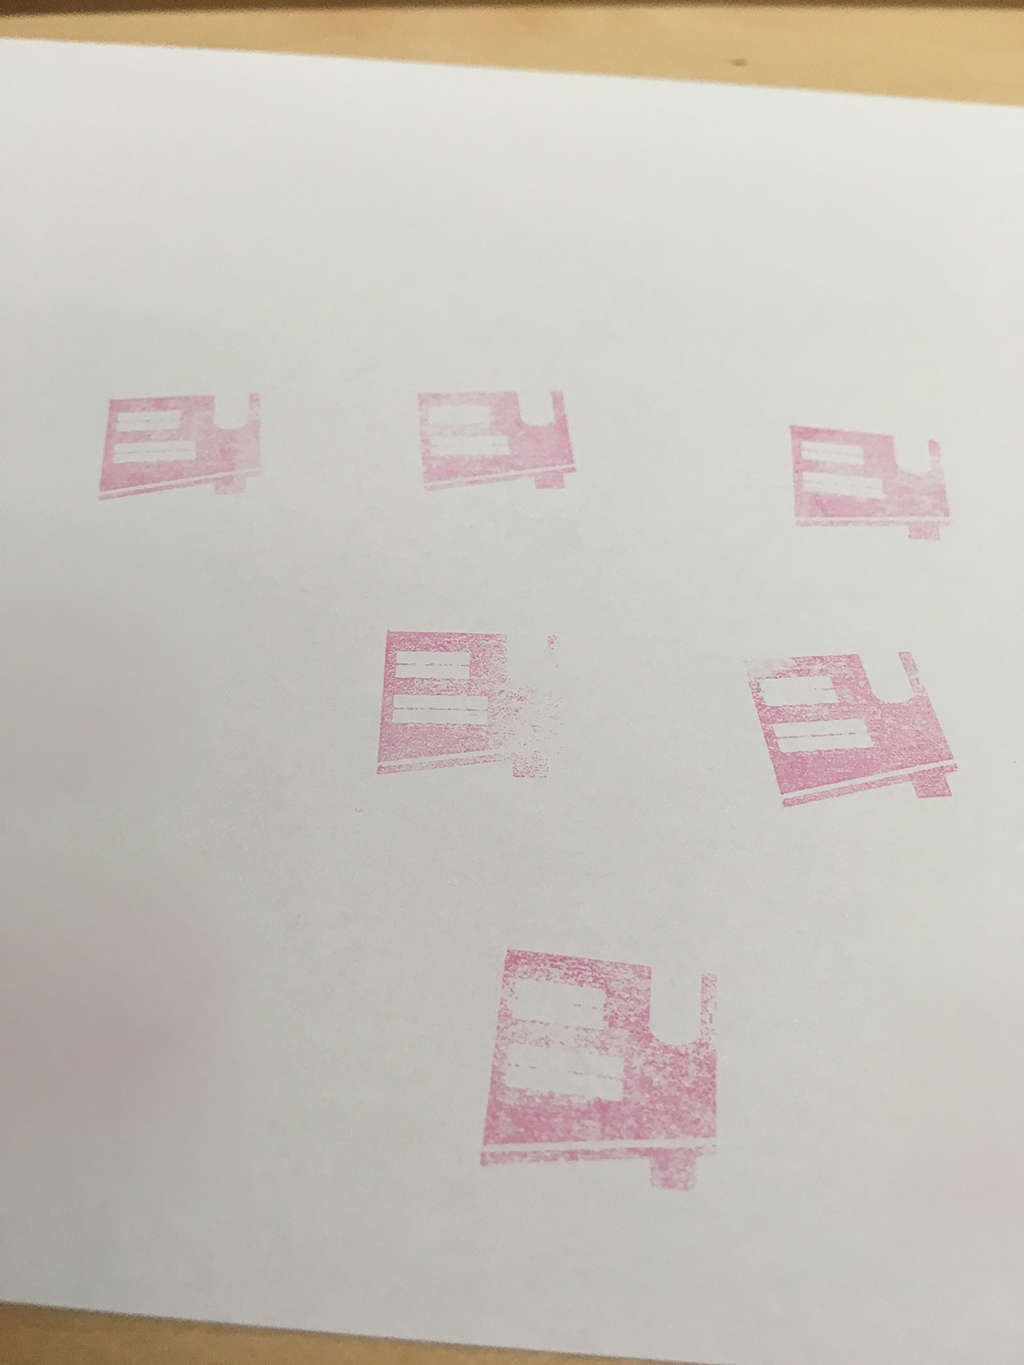house: (463, 928, 737, 1205), (368, 609, 605, 808), (727, 635, 973, 819), (779, 401, 977, 558), (394, 371, 597, 502), (86, 385, 279, 518)
